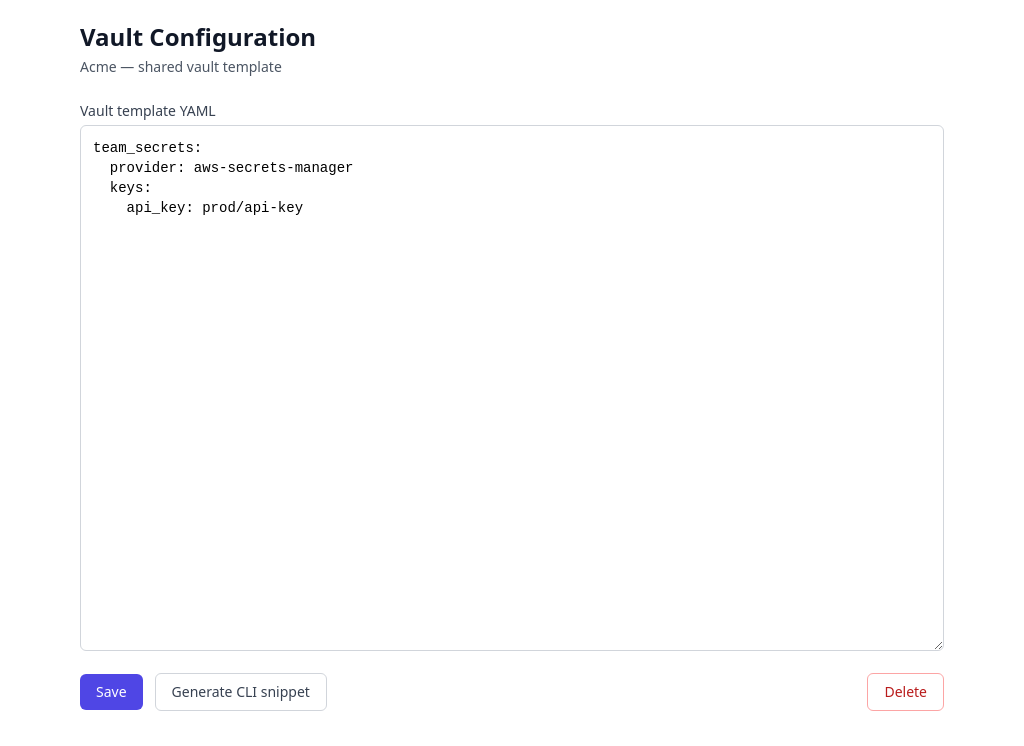
Test case: vault-config page › keeps the template when the delete request fails
The width and height of the screenshot is (1024, 746).
Step 1. Click the button with test id "vault-delete-button" → (906, 692), box [867,673,944,711]
(page scrolled)
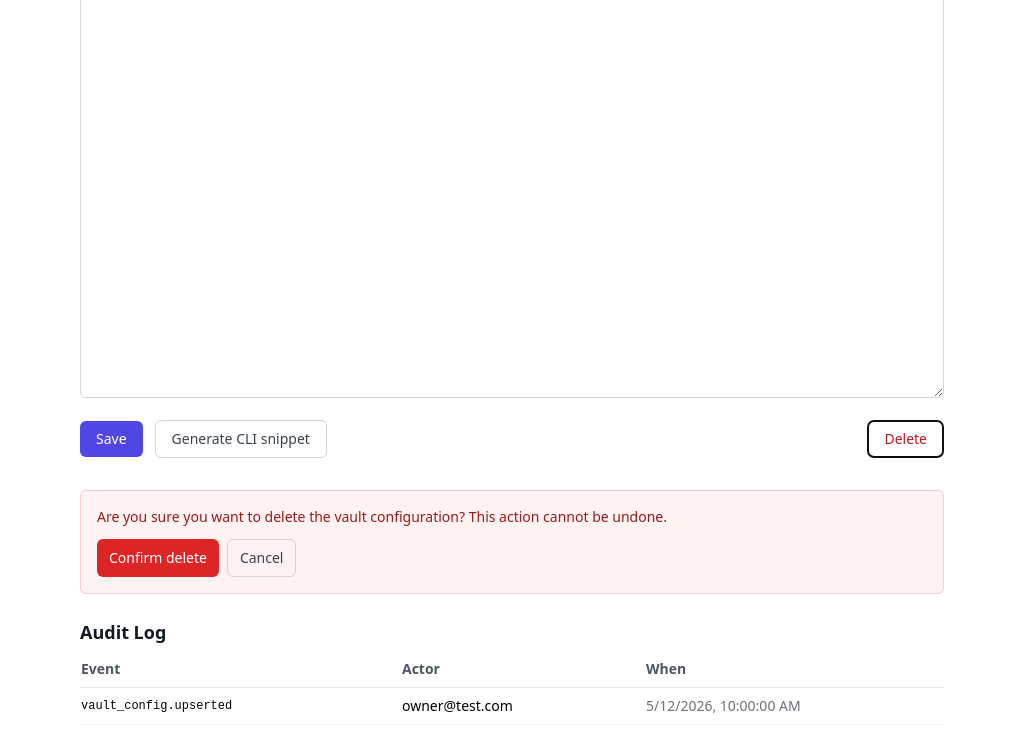
Step 2. Click the button with test id "vault-delete-confirm" → (158, 558), box [97,539,219,577]
(page scrolled)
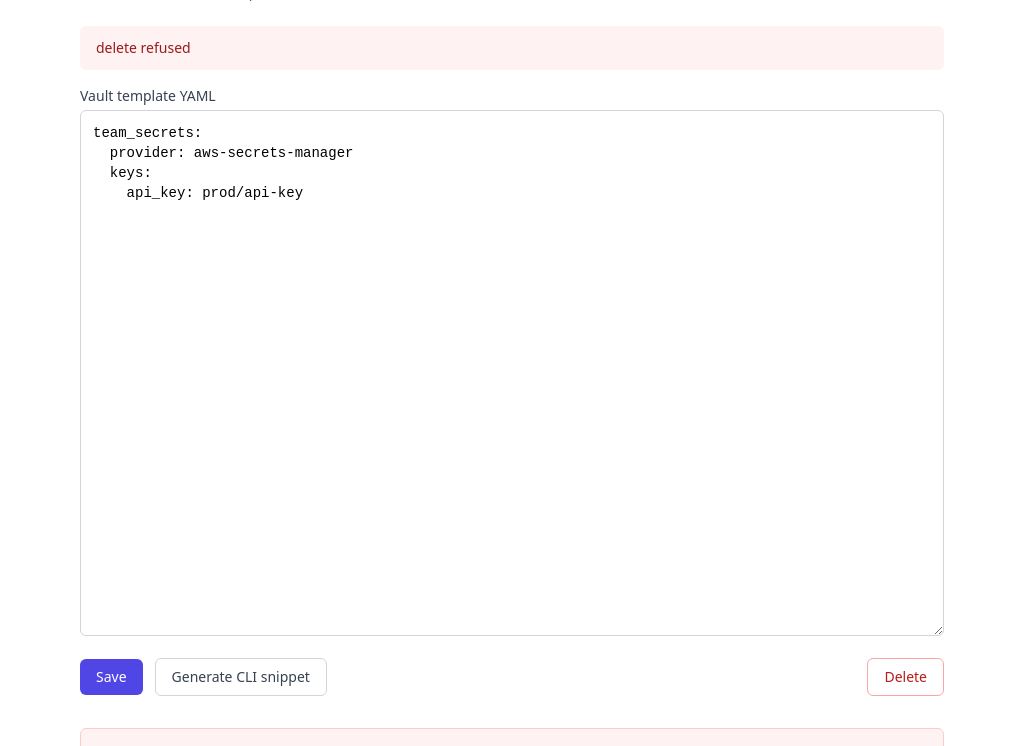
Check: the text "delete refused" is shown, box [80,26,944,70]
